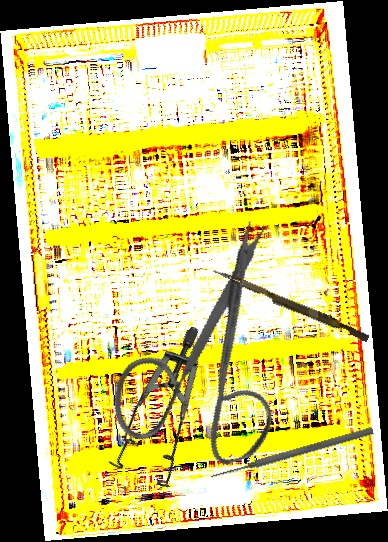Iris Scissors: (68, 214, 338, 495)
Pusher: (209, 267, 372, 343), (208, 424, 375, 483)
Speculum: (73, 325, 264, 507)
